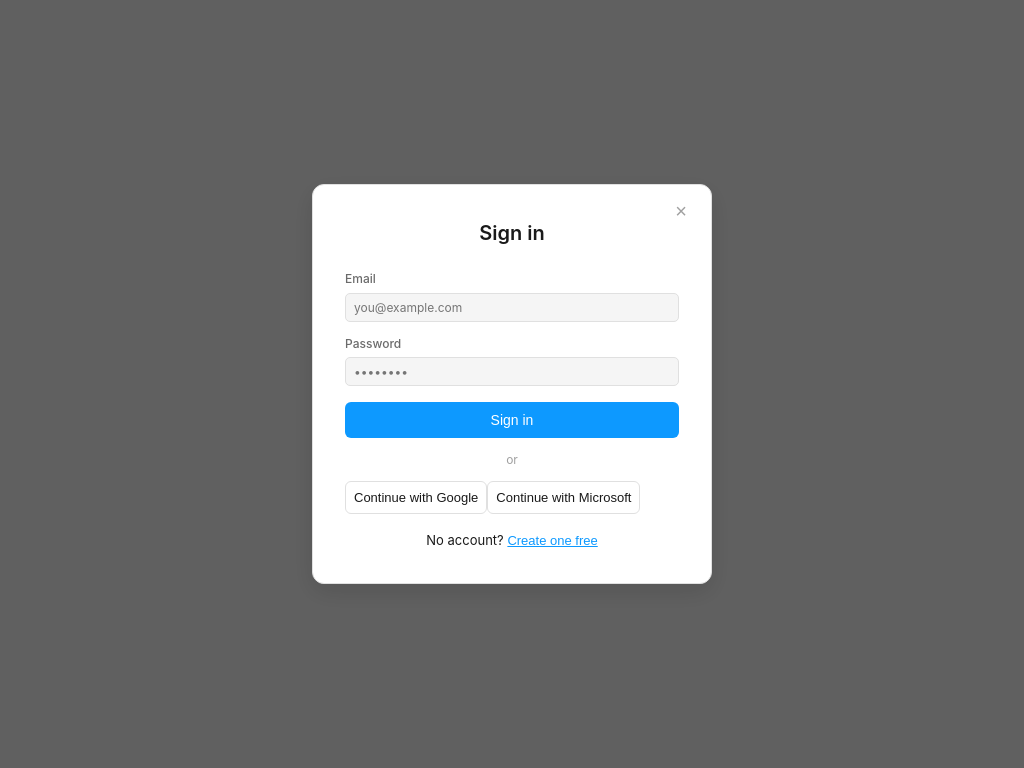
it: T-AUTH-008 / T-AUTH-009 / T-AUTH-010: AuthModal OAuth providers › T-AUTH-010: OAuth buttons are disabled while loading
What coordinates should you click on to do the following:
click the button "Continue with Google"
I would click on:
 (416, 497)
Its box is left=345, top=481, right=487, bottom=514.
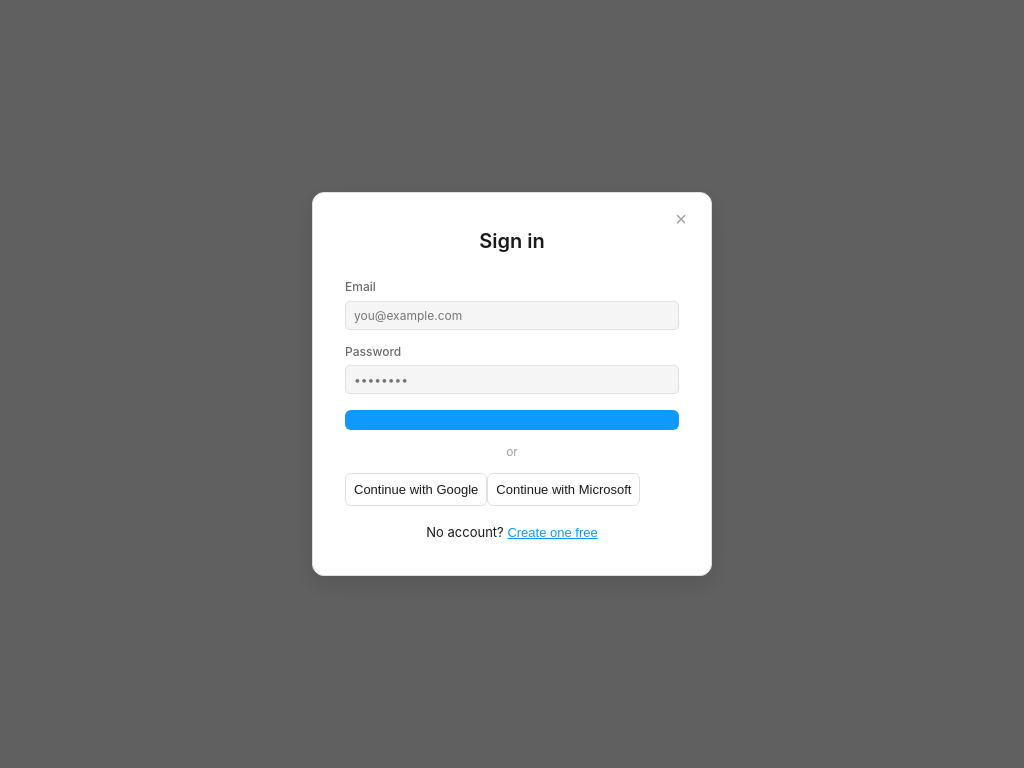
Now the button "Continue with Google" is disabled, box left=345, top=473, right=487, bottom=506
Now the button "Continue with Microsoft" is disabled, box left=487, top=473, right=640, bottom=506
